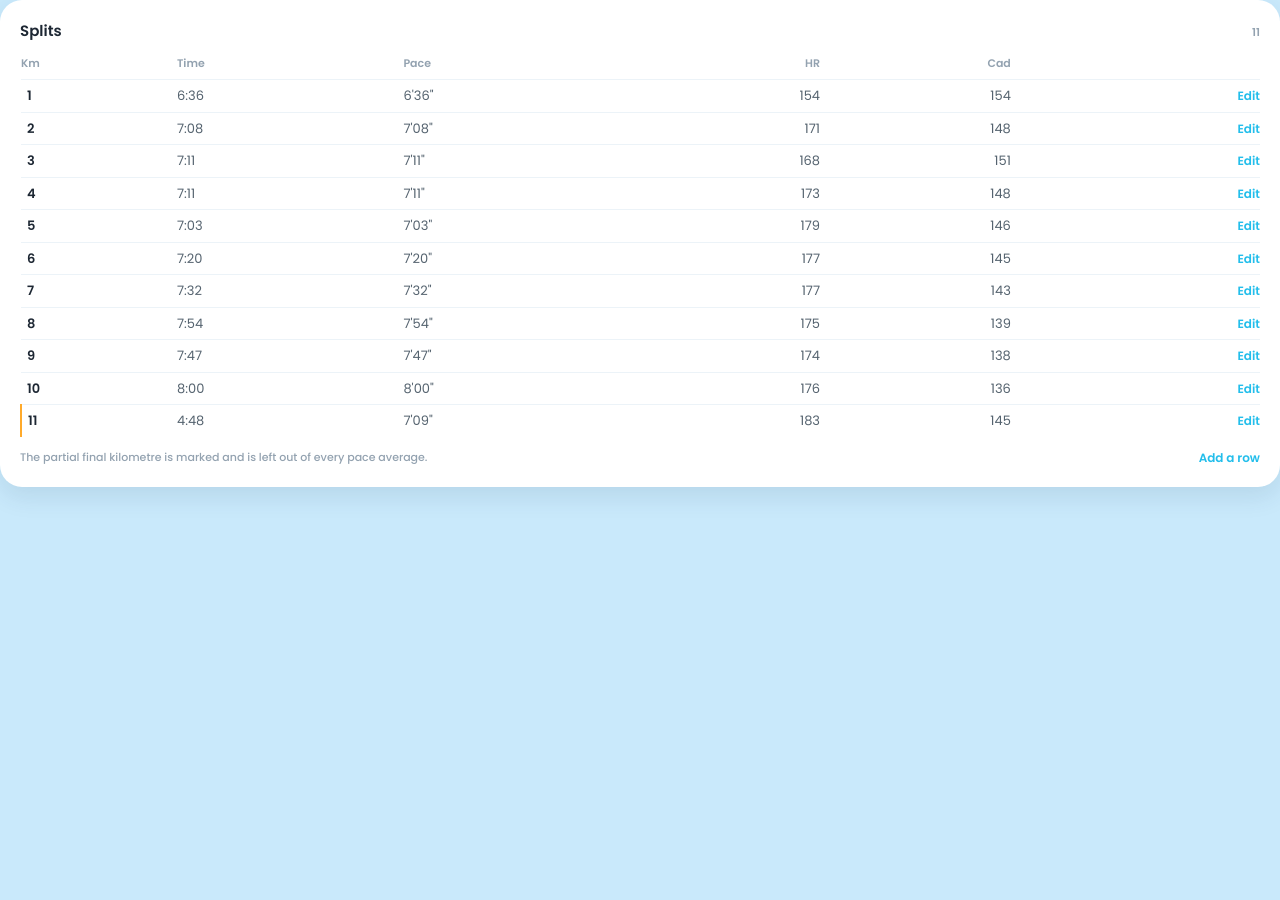
Test: SplitsTable — the row sheet › opens on a row’s summary with the partial kilometre named in the subtitle
Click the button with aria-label "Edit kilometre 11" at (1249, 421), box [1238,412,1260,430]
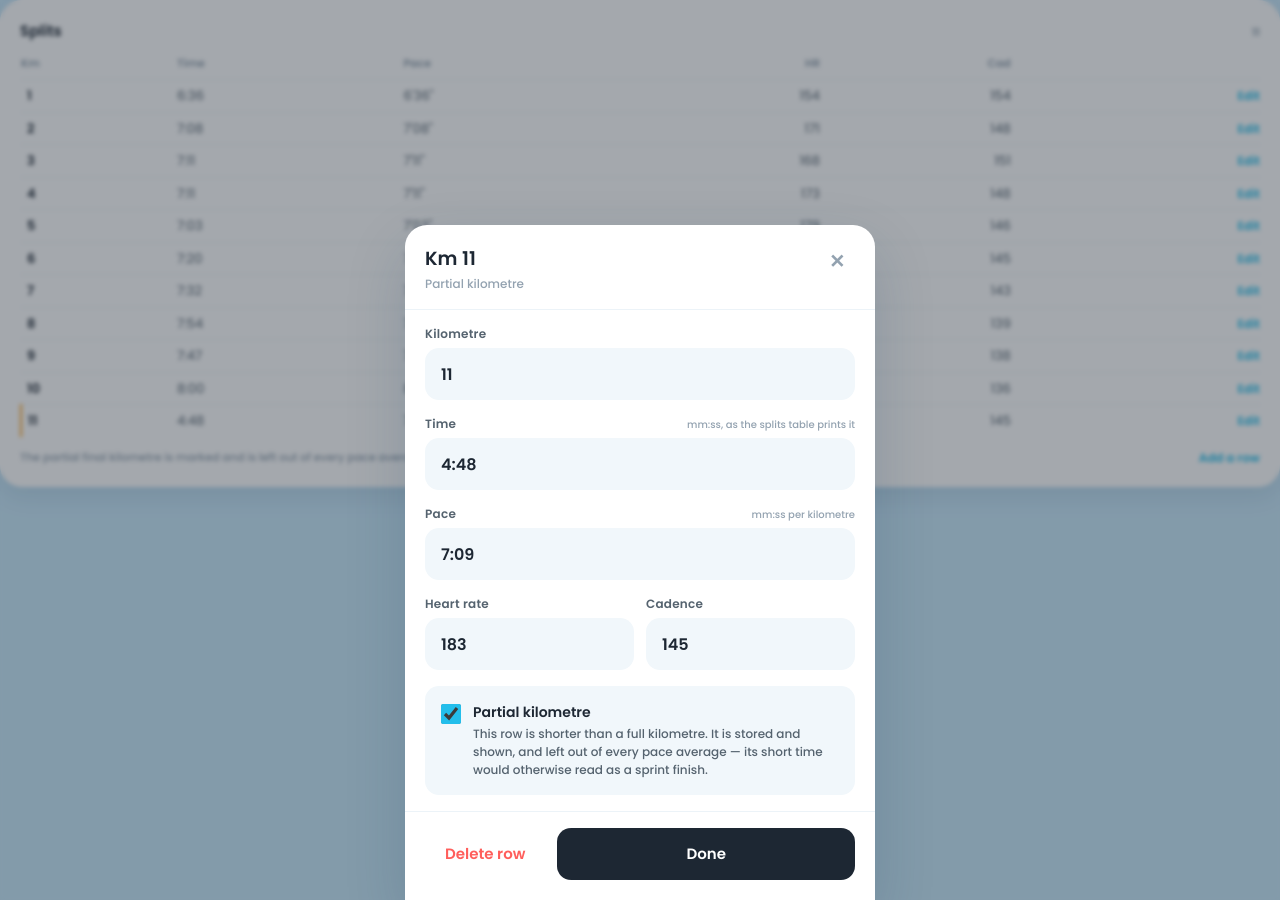
Expected: the dialog "Km 11" is shown, [405,224,875,899]
Expected: the text "Partial kilometre" is shown 2 times, [425,275,524,293]; [473,702,591,722]
